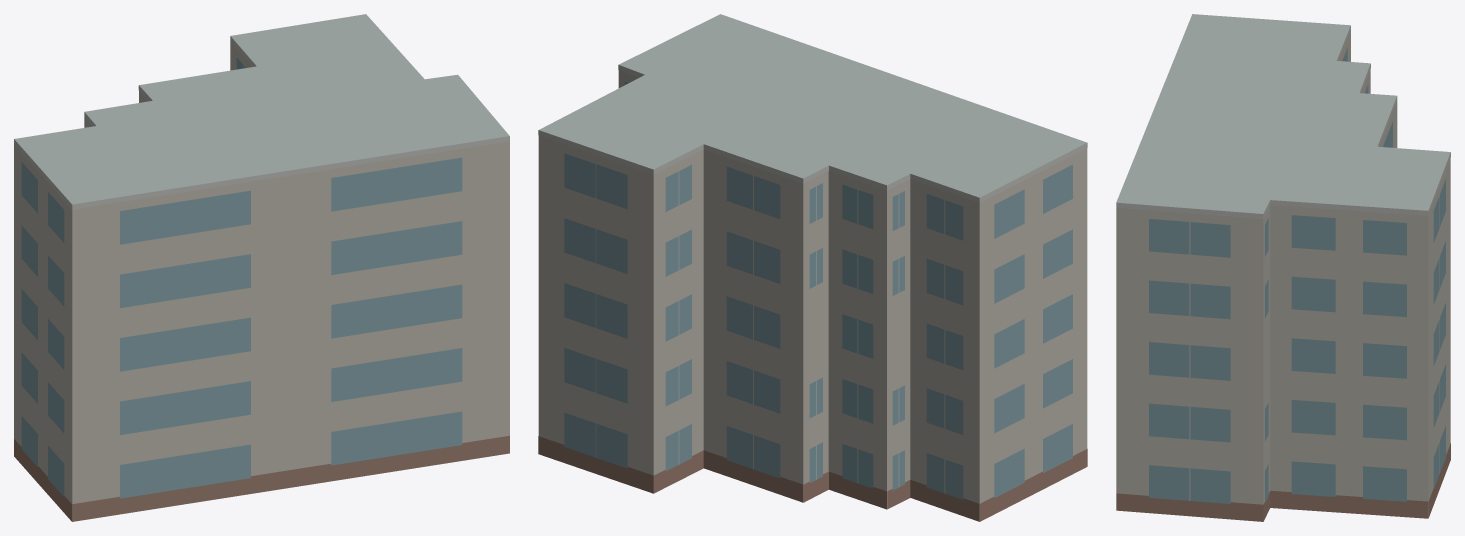
File: survey-upis-32991339.glb
3 renders of one model, left to right at view 1: azimuth 30°, elevation 25°; view 2: azimuth 150°, elevation 25°; view 3: azimuth 270°, elevation 25°, orthographic. The views are drawn at different scales.
Visible parts, largest first — view 1: survey-upis-32991339.tmp; view 2: survey-upis-32991339.tmp; view 3: survey-upis-32991339.tmp.
Part boxes in pixels (x1,y1,x2,y2): survey-upis-32991339.tmp: [14, 14, 509, 521]; survey-upis-32991339.tmp: [538, 14, 1087, 521]; survey-upis-32991339.tmp: [1116, 14, 1450, 521].
Bounding box in the file's own units: 21.08 × 15.12 × 14.9.
